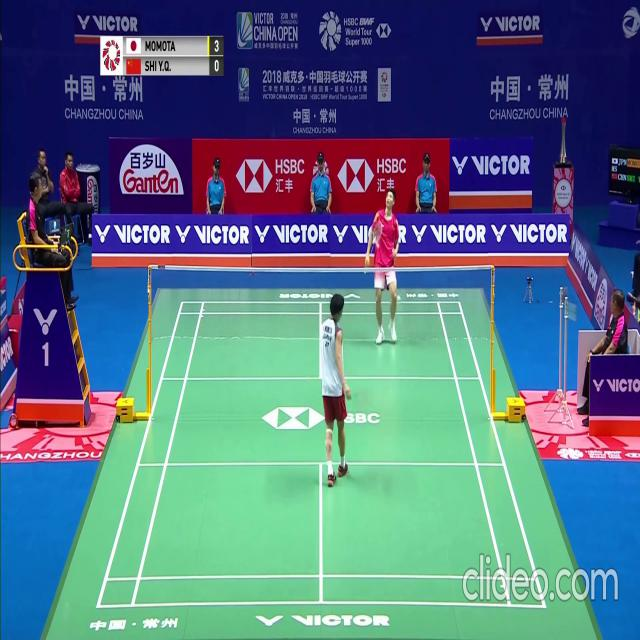Shuttlecock: (396, 294, 401, 301)
